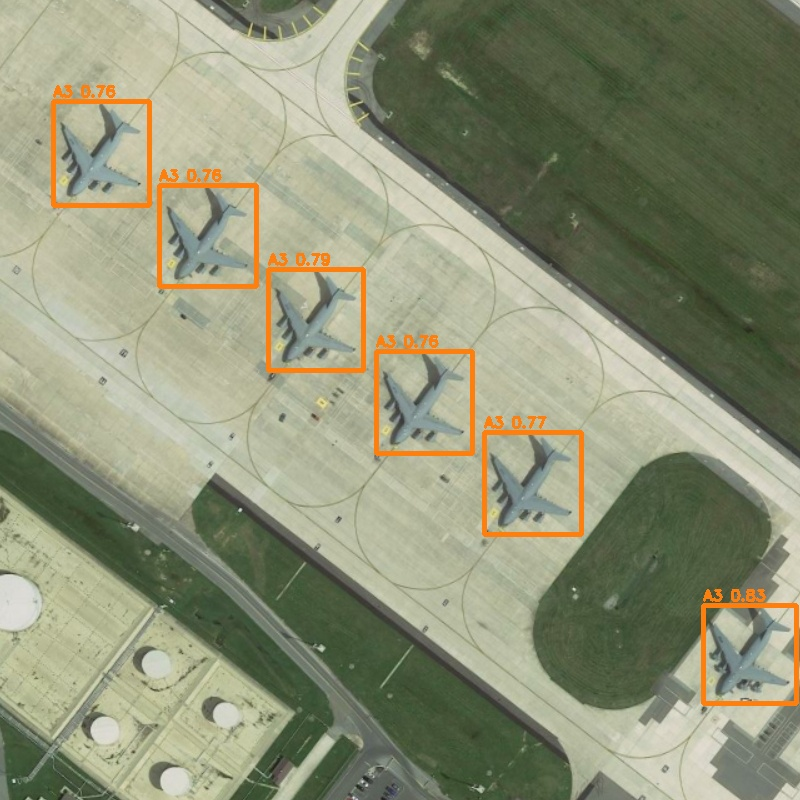A3: (53, 101, 149, 205), (484, 432, 581, 534), (159, 185, 256, 286), (376, 351, 472, 453), (268, 269, 363, 370), (703, 605, 796, 703)
